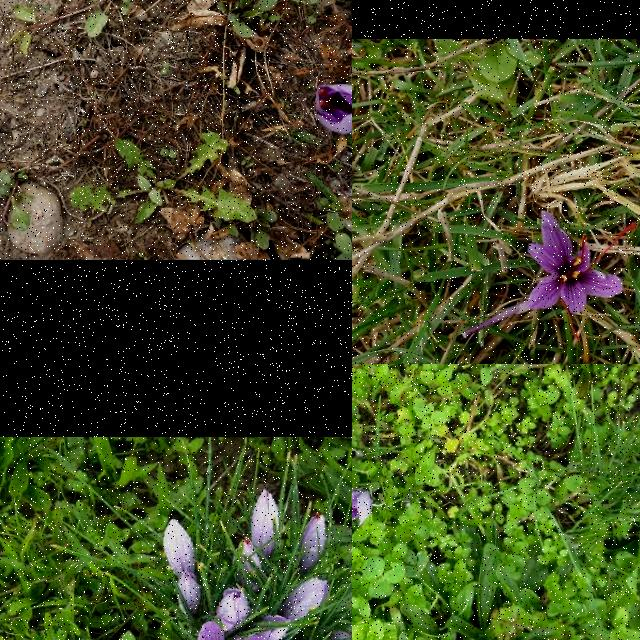flower: (528, 210, 638, 342), (277, 578, 331, 626), (250, 488, 282, 558), (163, 520, 197, 580), (313, 84, 352, 135), (296, 511, 326, 575), (232, 536, 266, 592), (214, 587, 250, 631), (176, 570, 204, 616), (256, 616, 292, 640), (352, 491, 373, 527)
